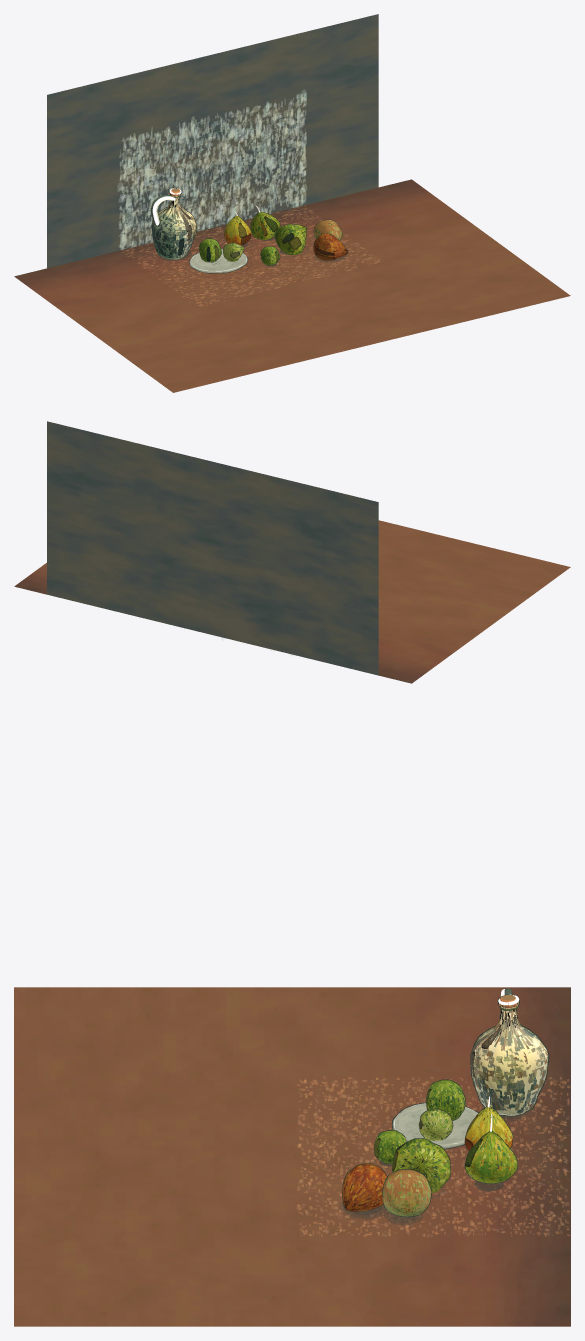
The model's file is codex.glb.
3 renders of one model, top to bottom at view 1: azimuth 30°, elevation 25°; view 2: azimuth 150°, elevation 25°; view 3: azimuth 270°, elevation 25°, orthographic. The views are drawn at different scales.
Visible parts, largest first — view 1: Tabletop, Upright plaster painted backdrop, Uneven vertical wall brushwork, Table broken ochre brushwork, Jug long scumbled pigment marks, Asymmetric glazed earthenware vessel, Hand formed shallow oval dish, pear painted skin.003; view 2: Upright plaster painted backdrop, Tabletop; view 3: Tabletop, Table broken ochre brushwork, Jug long scumbled pigment marks, Asymmetric glazed earthenware vessel, Hand formed shallow oval dish, apple painted skin.002, pear painted skin.002, pear individual brush dabs.003, pear painted skin.003, pear individual brush dabs.004, pear painted skin.004, pear individual brush dabs.002 (+3 smaller).
Boxes of the visible parts, left/top/right/bottom form: Tabletop: left=14, top=179, right=570, bottom=392; Upright plaster painted backdrop: left=47, top=14, right=378, bottom=268; Uneven vertical wall brushwork: left=118, top=90, right=306, bottom=249; Table broken ochre brushwork: left=123, top=205, right=382, bottom=305; Jug long scumbled pigment marks: left=152, top=193, right=196, bottom=258; Asymmetric glazed earthenware vessel: left=152, top=190, right=195, bottom=259; Hand formed shallow oval dish: left=189, top=249, right=247, bottom=272; pear painted skin.003: left=275, top=224, right=306, bottom=254; Upright plaster painted backdrop: left=47, top=421, right=378, bottom=675; Tabletop: left=14, top=520, right=570, bottom=683; Tabletop: left=14, top=987, right=570, bottom=1326; Table broken ochre brushwork: left=297, top=1076, right=569, bottom=1236; Jug long scumbled pigment marks: left=471, top=999, right=548, bottom=1114; Asymmetric glazed earthenware vessel: left=471, top=997, right=548, bottom=1115; Hand formed shallow oval dish: left=392, top=1103, right=477, bottom=1148; apple painted skin.002: left=383, top=1169, right=430, bottom=1216; pear painted skin.002: left=466, top=1131, right=517, bottom=1183; pear individual brush dabs.003: left=392, top=1138, right=450, bottom=1192; pear painted skin.003: left=393, top=1139, right=450, bottom=1192; pear individual brush dabs.004: left=342, top=1163, right=386, bottom=1211; pear painted skin.004: left=342, top=1163, right=386, bottom=1211; pear individual brush dabs.002: left=465, top=1131, right=517, bottom=1182.
Bounding box in the file's own units: 24 × 10.26 × 16.64.
Materials: 181 (116 with a texture image).
